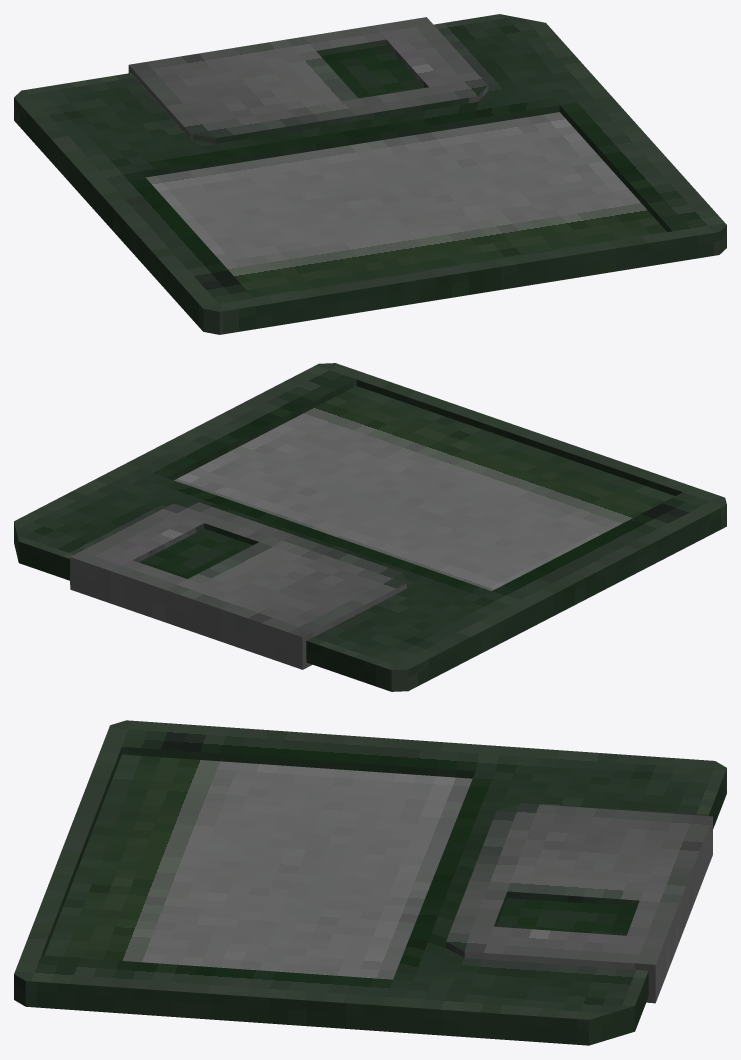
Rendered from floppy_disc_3.glb.
3 renders of one model, top to bottom at view 1: azimuth 30°, elevation 25°; view 2: azimuth 150°, elevation 25°; view 3: azimuth 270°, elevation 25°, orthographic. The views are drawn at different scales.
Visible parts, largest first — view 1: floppy_disc_3; view 2: floppy_disc_3; view 3: floppy_disc_3.
Boxes of the visible parts, x1=… form: floppy_disc_3: x1=14, y1=14, x2=726, y2=334; floppy_disc_3: x1=14, y1=363, x2=726, y2=691; floppy_disc_3: x1=14, y1=720, x2=726, y2=1045.
Bounding box in the file's own units: 0.1796 × 0.0108 × 0.1807.
Materials: 1 (1 with a texture image).
